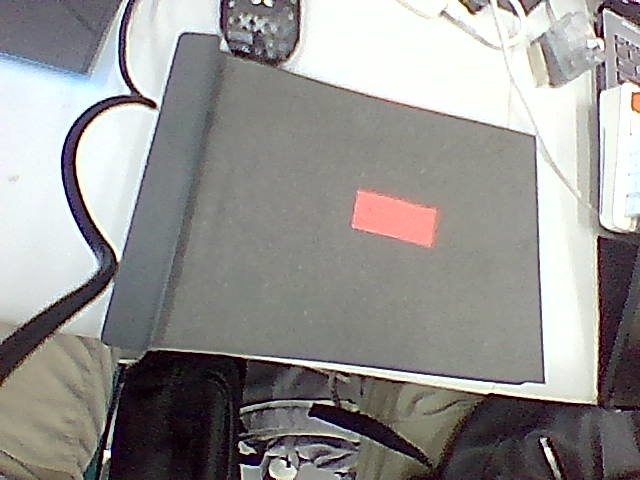card: (351, 190, 436, 247)
